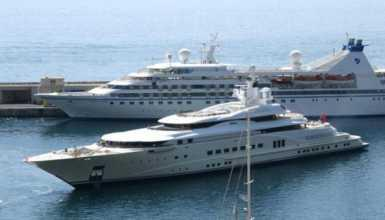yacht: (31, 90, 359, 184), (36, 31, 310, 122)
